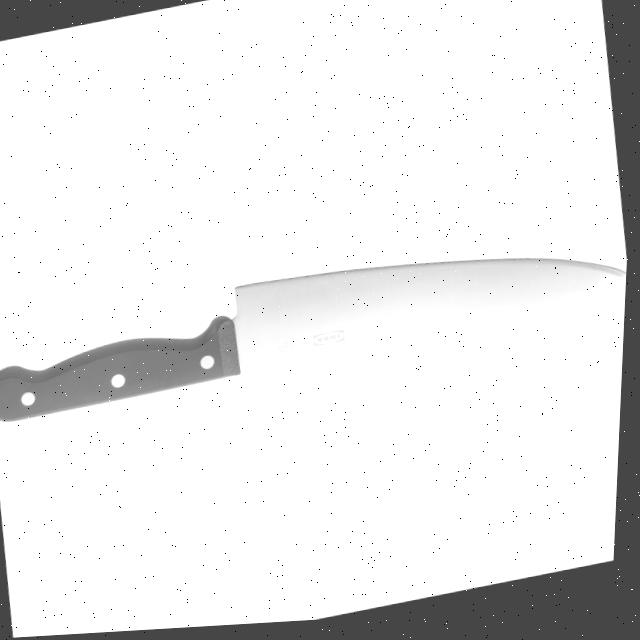knife: (0, 214, 631, 438)
